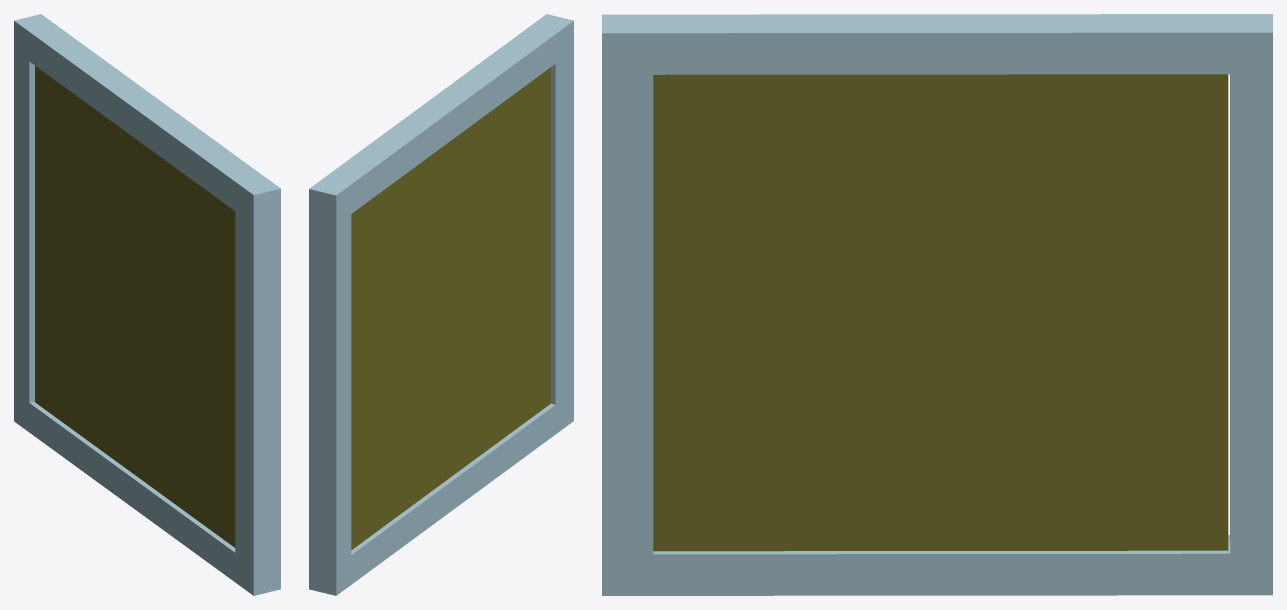
File: Bedroom_2_Window_2.fbx
3 renders of one model, left to right at view 1: azimuth 30°, elevation 25°; view 2: azimuth 150°, elevation 25°; view 3: azimuth 270°, elevation 25°, orthographic. The views are drawn at different scales.
Visible parts, largest first — view 1: Bedroom_2_Window_2; view 2: Bedroom_2_Window_2; view 3: Bedroom_2_Window_2.
Boxes of the visible parts, x1,y1,x2,y2 form: Bedroom_2_Window_2: (14, 14, 280, 595); Bedroom_2_Window_2: (309, 14, 573, 595); Bedroom_2_Window_2: (602, 14, 1272, 595).
Bounding box in the file's own units: 12.38 × 168 × 182.
